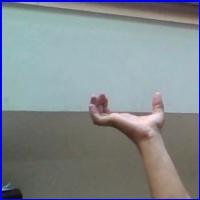space: (85, 78, 181, 159)
